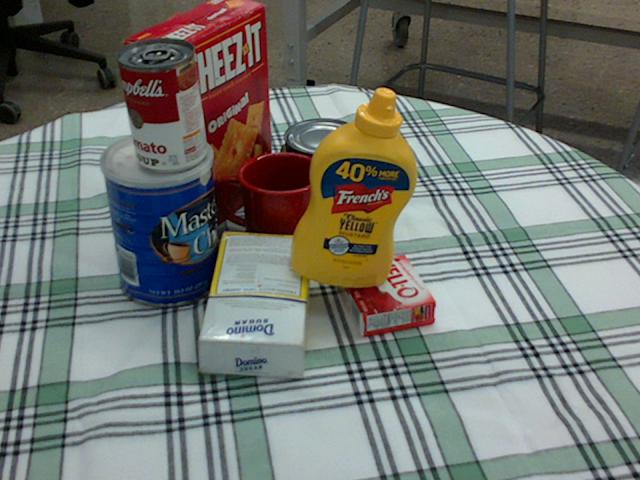cracker_box: (122, 0, 271, 239)
gelatin_box: (335, 253, 434, 337)
master_chef_can: (98, 130, 221, 307)
mug: (215, 150, 323, 254)
mustard_bottle: (290, 87, 416, 287)
potted_meat_can: (271, 136, 361, 215)
sugar_box: (200, 230, 312, 377)
tomato_soup_can: (117, 37, 206, 170)
tuna_fish_can: (282, 118, 359, 179)
